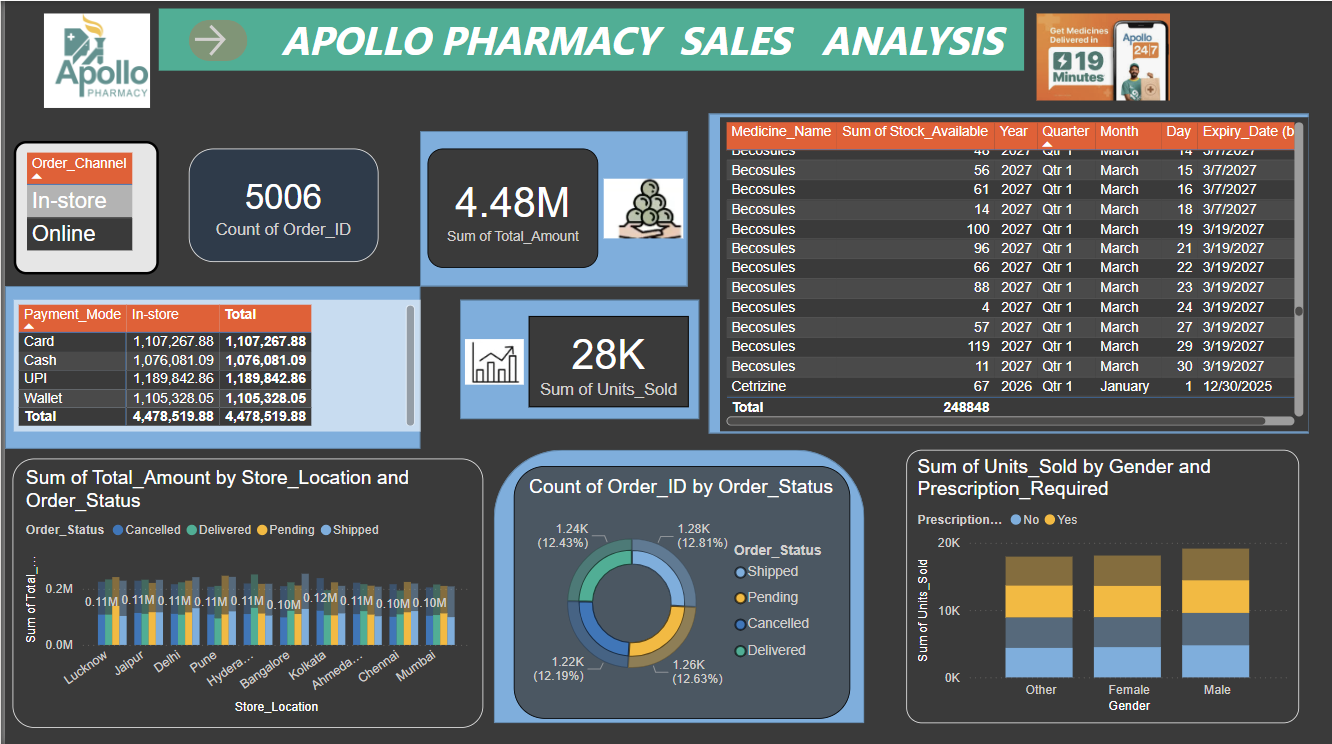

This screenshot's page, from the dashboard's own definition file:
{"tool":"powerbi","page":{"name":"Page 1","canvas":[1280,720],"ordinal":0},"visuals":[{"type":"shape","box":[471.8,432.8,357.8,264],"z":0},{"type":"shape","box":[401.1,125.5,258.3,150],"z":1000},{"type":"shape","box":[438.6,288.6,230.8,115.4],"z":2000},{"type":"shape","box":[679.2,108.6,579.1,308.8],"z":3000},{"type":"shape","box":[0,275.6,401.1,157.3],"z":4000},{"type":"card","fields":{"Values":["Sum(apollo.Total_Amount)"]},"box":[408.3,142.8,164.5,115.4],"z":5000},{"type":"card","fields":{"Values":["CountNonNull(apollo.Order_ID)"]},"box":[177.5,142.8,183.2,109.6],"z":6000},{"type":"card","fields":{"Values":["Sum(apollo.Units_Sold)"]},"box":[505,304.4,154.4,88],"z":7000},{"type":"tableEx","fields":{"Values":["apollo.Order_Channel"]},"box":[8.7,135.6,139.9,128.4],"z":8000},{"type":"clusteredColumnChart","fields":{"Category":["apollo.Store_Location"],"Y":["Sum(apollo.Total_Amount)"],"Series":["apollo.Order_Status"]},"box":[7.2,441.5,454.5,259.7],"z":9000},{"type":"donutChart","fields":{"Category":["apollo.Order_Status"],"Y":["CountNonNull(apollo.Order_ID)"]},"box":[490.5,448.7,324.6,243.8],"z":10000},{"type":"columnChart","fields":{"Category":["apollo.Gender"],"Y":["Sum(apollo.Units_Sold)"],"Series":["apollo.Prescription_Required"]},"box":[870,432.8,379.4,264],"z":11000},{"type":"pivotTable","fields":{"Rows":["apollo.Payment_Mode"],"Columns":["apollo.Order_Channel"],"Values":["Sum(apollo.Total_Amount)"]},"box":[8.7,288.6,392.4,127],"z":12000},{"type":"tableEx","fields":{"Values":["apollo.Medicine_Name","Sum(apollo.Stock_Available)","apollo.Expiry_Date.Variation.Date Hierarchy.Year","apollo.Expiry_Date.Variation.Date Hierarchy.Quarter","apollo.Expiry_Date.Variation.Date Hierarchy.Month","apollo.Expiry_Date.Variation.Date Hierarchy.Day","apollo.Expiry_Date (bins)"]},"box":[690.1,112.2,568.2,302.8],"z":13000},{"type":"textbox","box":[148.4,7.2,834.9,60.3],"z":14000},{"type":"image","box":[0,7.2,177.5,101],"z":15000},{"type":"image","box":[438.6,279.9,66.4,137.1],"z":16000},{"type":"image","box":[572.8,134.2,86.6,132.7],"z":17000},{"type":"image","box":[974.8,7.2,170.1,94.1],"z":18000},{"type":"actionButton","box":[177.3,18.1,56.7,39.8],"z":19000}]}

Visuals, with their boxes in screenshot pixels (x1, y1, x2, y2), scaled from the page's 1280x720 canvas onto the 1332x744 screenshot:
shape: l=491, t=447, r=863, b=720
shape: l=417, t=130, r=686, b=285
shape: l=456, t=298, r=697, b=417
shape: l=707, t=112, r=1309, b=431
shape: l=0, t=285, r=417, b=447
card - Sum(apollo.Total_Amount): l=425, t=148, r=596, b=267
card - CountNonNull(apollo.Order_ID): l=185, t=148, r=375, b=261
card - Sum(apollo.Units_Sold): l=526, t=315, r=686, b=405
tableEx - apollo.Order_Channel: l=9, t=140, r=155, b=273
clusteredColumnChart - apollo.Store_Location x Sum(apollo.Total_Amount): l=7, t=456, r=480, b=725
donutChart - apollo.Order_Status x CountNonNull(apollo.Order_ID): l=510, t=464, r=848, b=716
columnChart - apollo.Gender x Sum(apollo.Units_Sold): l=905, t=447, r=1300, b=720
pivotTable - apollo.Payment_Mode x apollo.Order_Channel: l=9, t=298, r=417, b=429
tableEx - apollo.Medicine_Name x Sum(apollo.Stock_Available): l=718, t=116, r=1309, b=429
textbox: l=154, t=7, r=1023, b=70
image: l=0, t=7, r=185, b=112
image: l=456, t=289, r=526, b=431
image: l=596, t=139, r=686, b=276
image: l=1014, t=7, r=1191, b=105
actionButton: l=185, t=19, r=244, b=60
